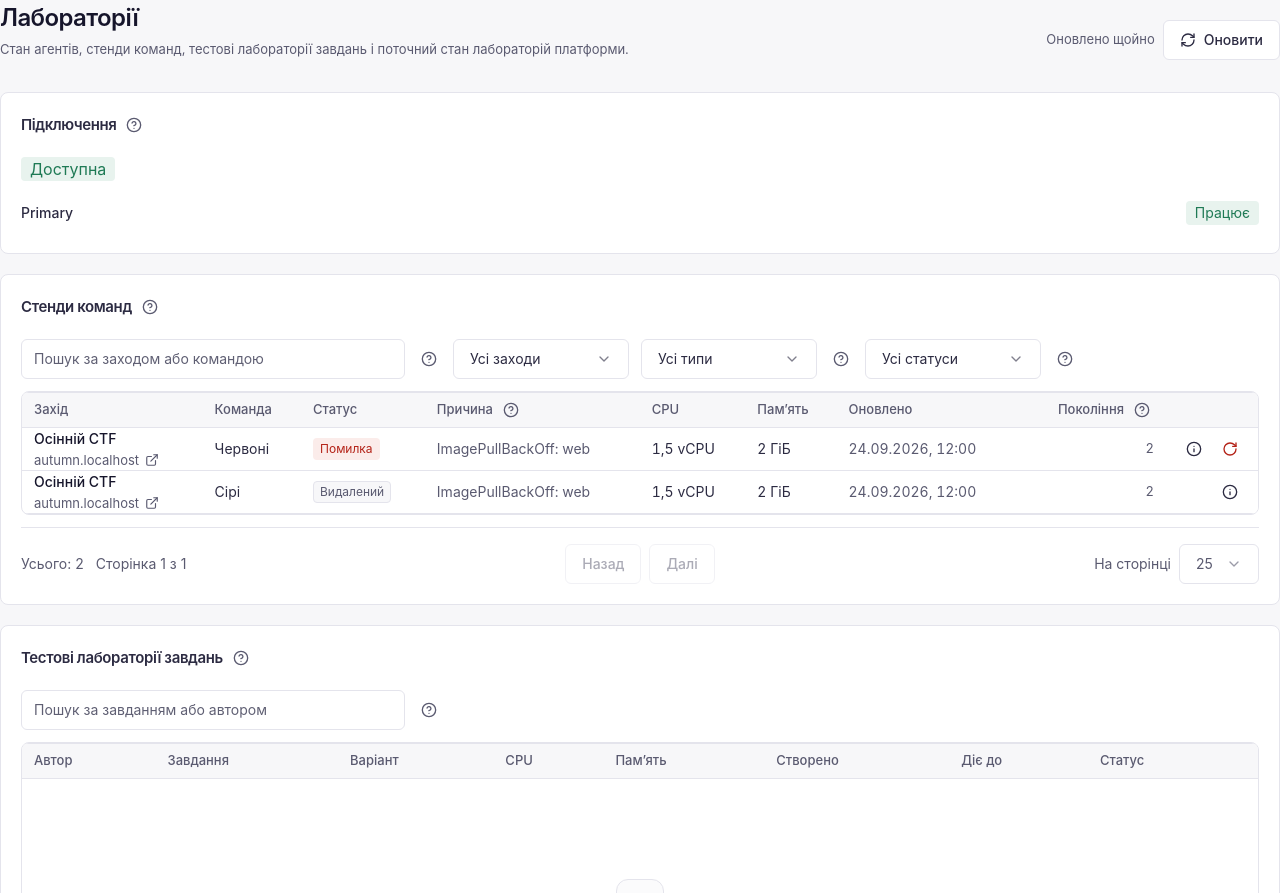
Test case: infrastructure page › stands › recreates a stand after confirmation naming the event and team
expect the text "Червоні" is shown: met, box x1=203 y1=428 x2=301 y2=470
Click the button named "Перестворити стенд" at (1230, 448), box x1=1214 y1=432 x2=1246 y2=464
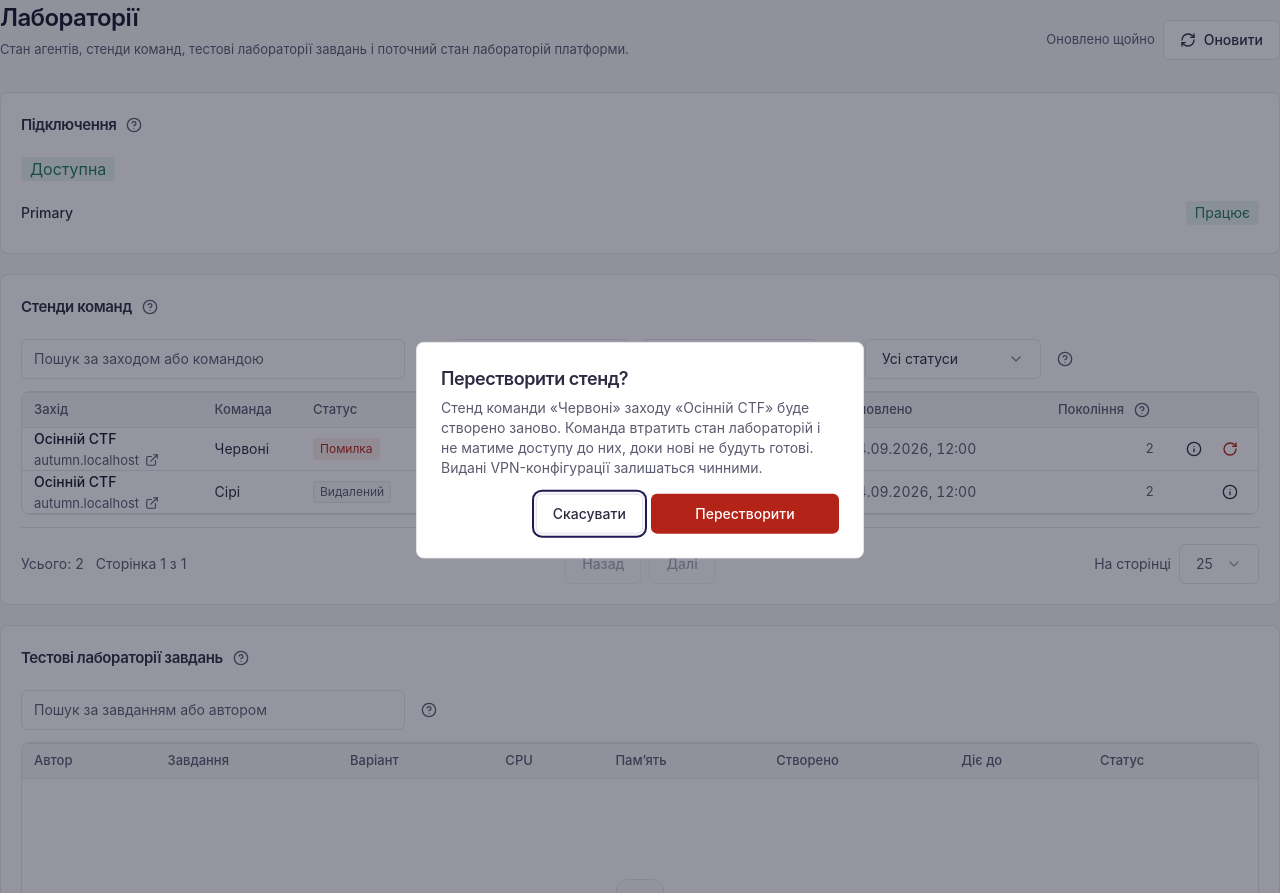
expect the dialog shows "«Червоні»": met, box x1=441 y1=398 x2=820 y2=475
expect the dialog shows "«Осінній CTF»": met, box x1=441 y1=398 x2=820 y2=475
expect the dialog shows "VPN-конфігурації залишаться чинними": met, box x1=441 y1=398 x2=820 y2=475
Click the button "Перестворити" at (745, 513), box x1=651 y1=493 x2=839 y2=533
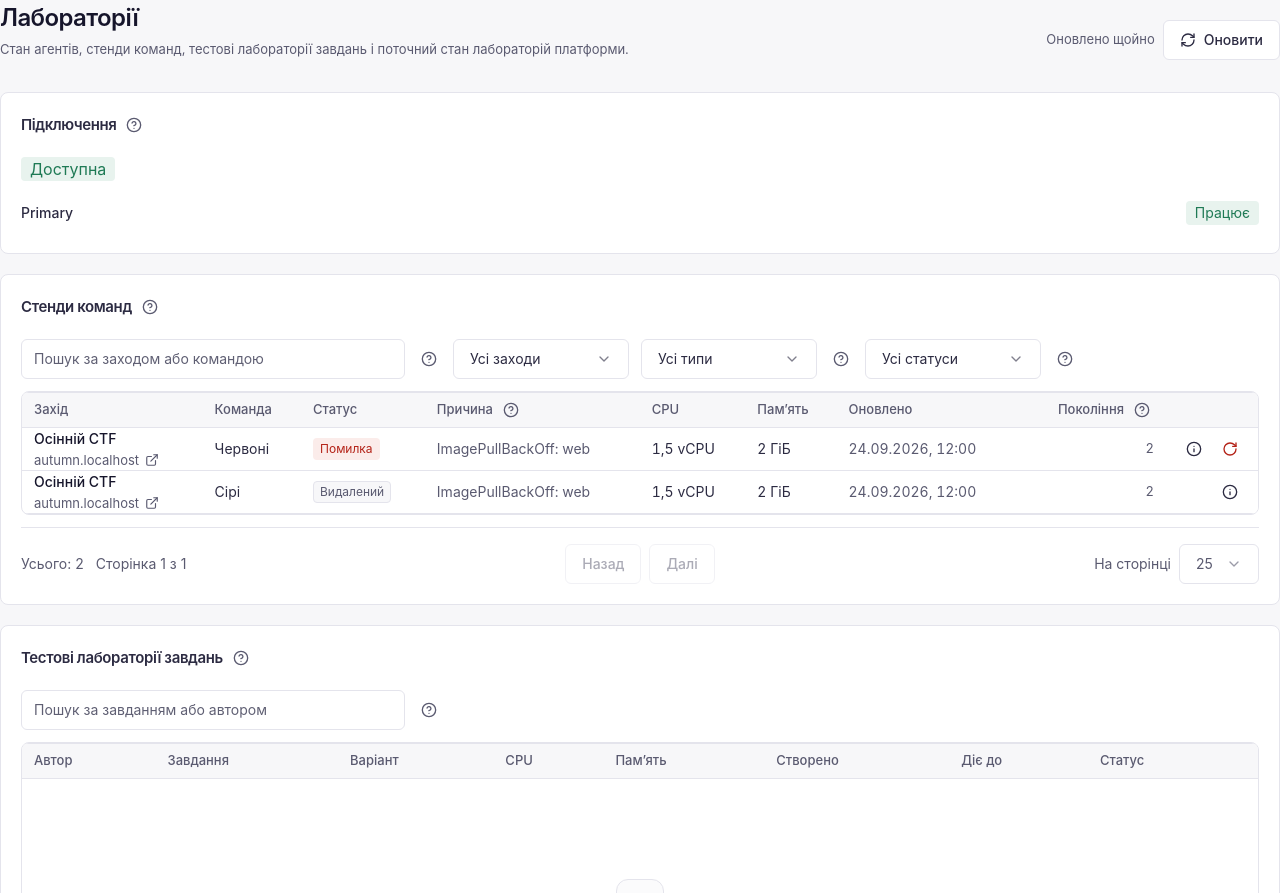
expect the dialog is gone: met
